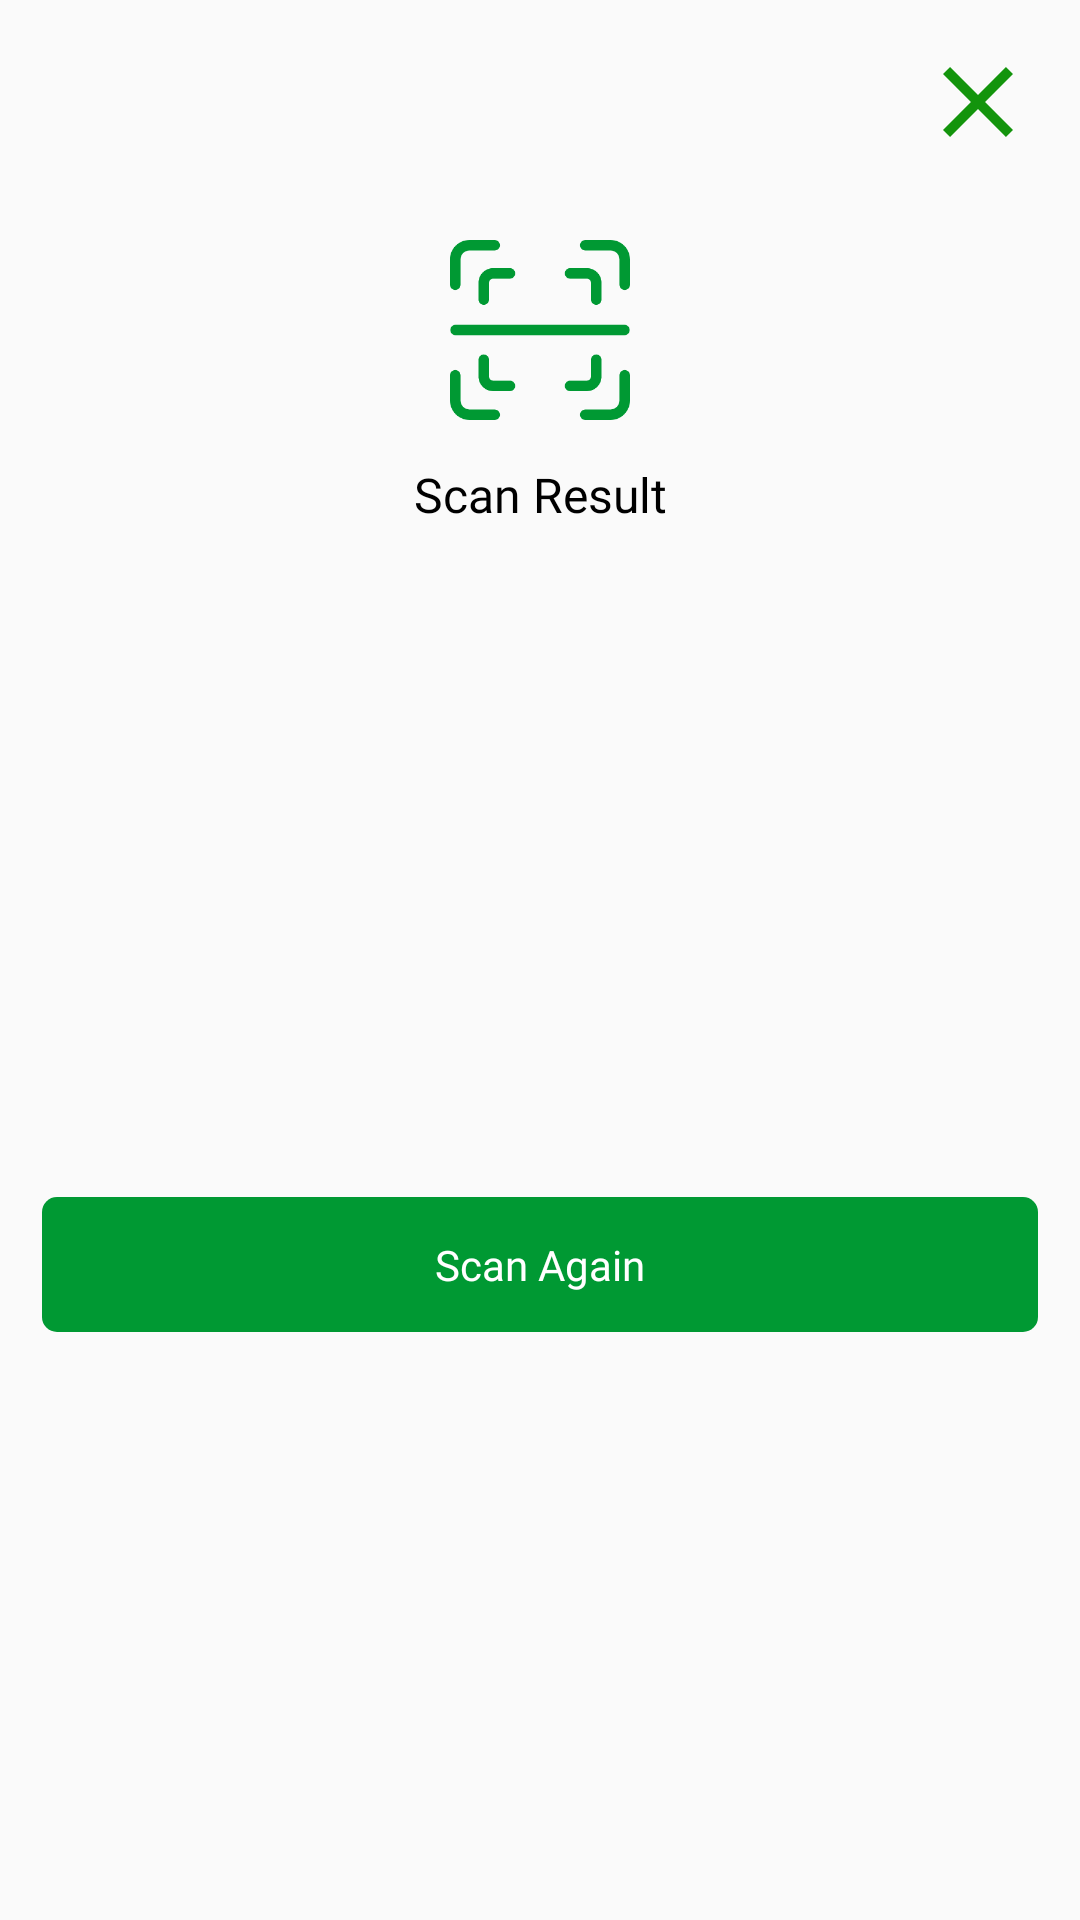

Icon bounding boxes for this 1080x1920 phone screenshot, format box(x1, y1, x2, y2):
close: box(943, 67, 1013, 137)
qr code scan: box(450, 240, 630, 420)
